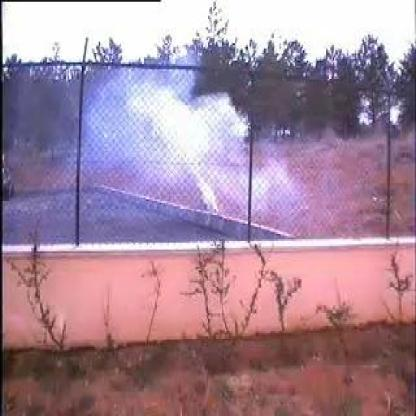-: (74, 67, 291, 224)
